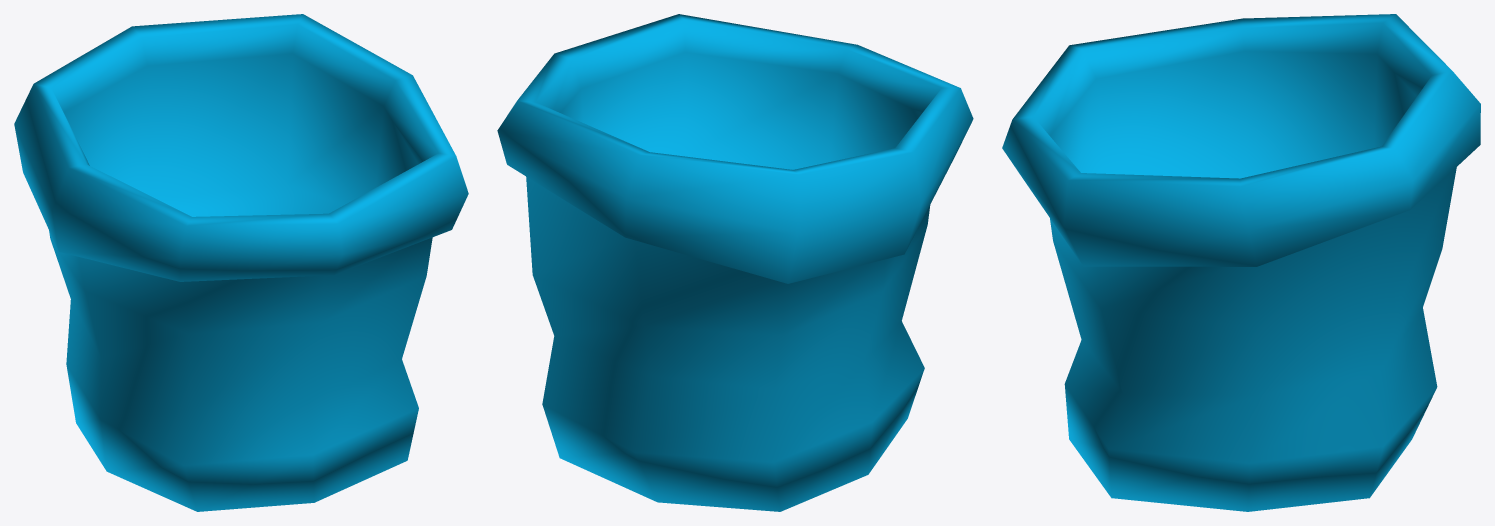
Rendered from Bag_Open.fbx.
3 views of the same model, side by side, from view 1: azimuth 30°, elevation 25°; view 2: azimuth 150°, elevation 25°; view 3: azimuth 270°, elevation 25° (orthographic). The views are drawn at different scales.
Parts seen in each view (by area): view 1: Bag_Open; view 2: Bag_Open; view 3: Bag_Open.
Boxes of the visible parts, x1=… form: Bag_Open: x1=14, y1=14, x2=468, y2=511; Bag_Open: x1=497, y1=14, x2=973, y2=511; Bag_Open: x1=1002, y1=14, x2=1480, y2=511.
Size of the model in its own units: 63.45 by 56.8 by 67.1.
